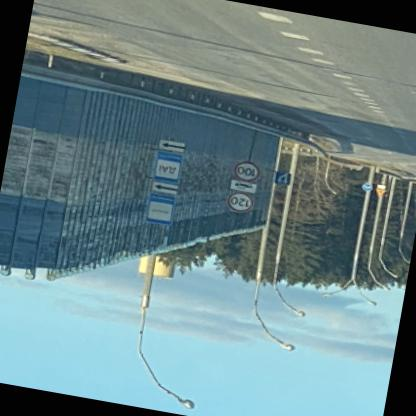speedlimit: (228, 192, 257, 215), (236, 162, 262, 184)
